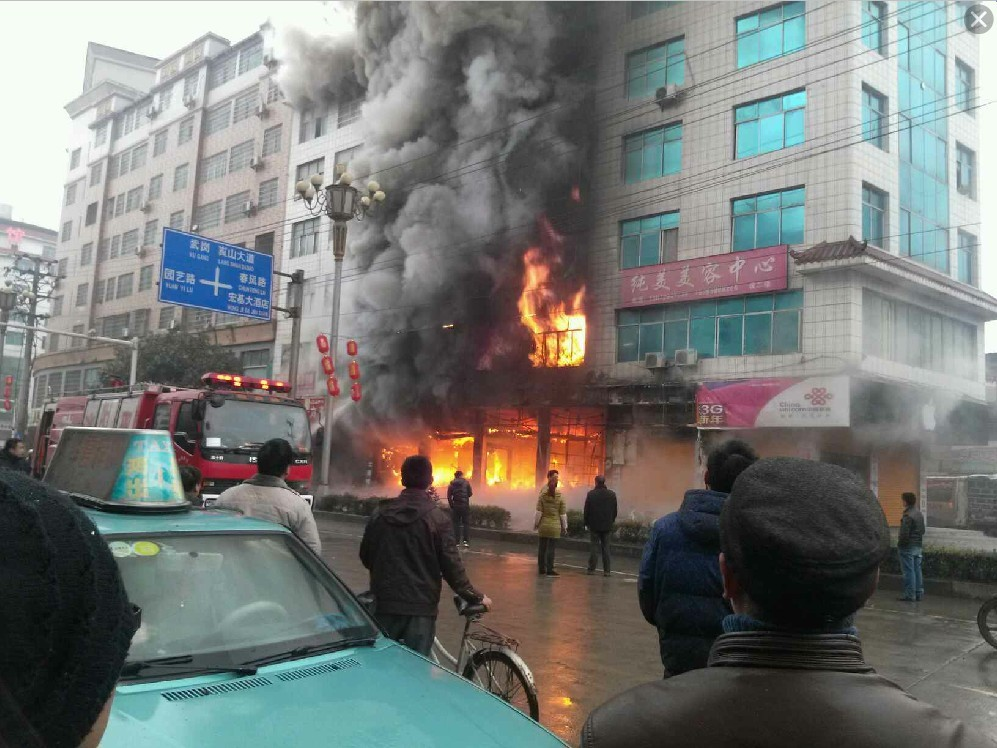fire: (500, 198, 610, 372)
